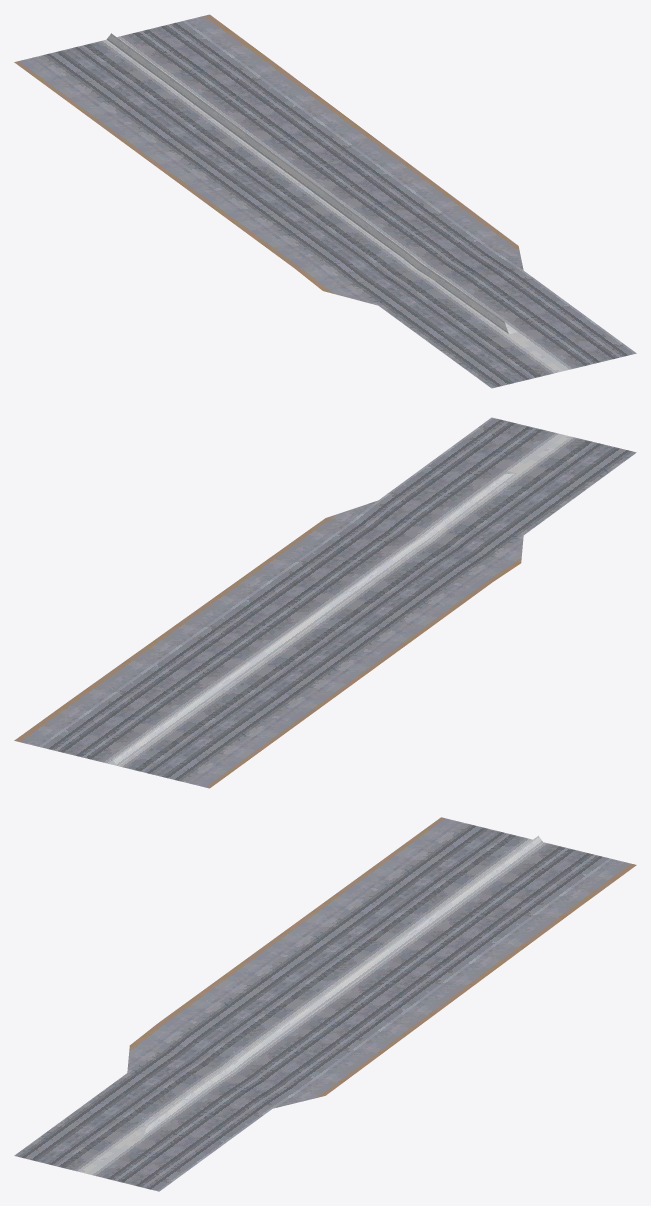
Rendered from lodaseroad043.obj.
3 views of the same model, one above another, from view 1: azimuth 30°, elevation 25°; view 2: azimuth 150°, elevation 25°; view 3: azimuth 330°, elevation 25° (orthographic).
Visible parts, largest first — view 1: lodasEroad043; view 2: lodasEroad043; view 3: lodasEroad043.
Boxes of the visible parts, x1,y1,x2,y2 form: lodasEroad043: (14, 14, 636, 388); lodasEroad043: (14, 417, 636, 788); lodasEroad043: (14, 817, 636, 1191).
Bounding box in the file's own units: 40.25 × 1.82 × 160.
1 material, 1 textured.
